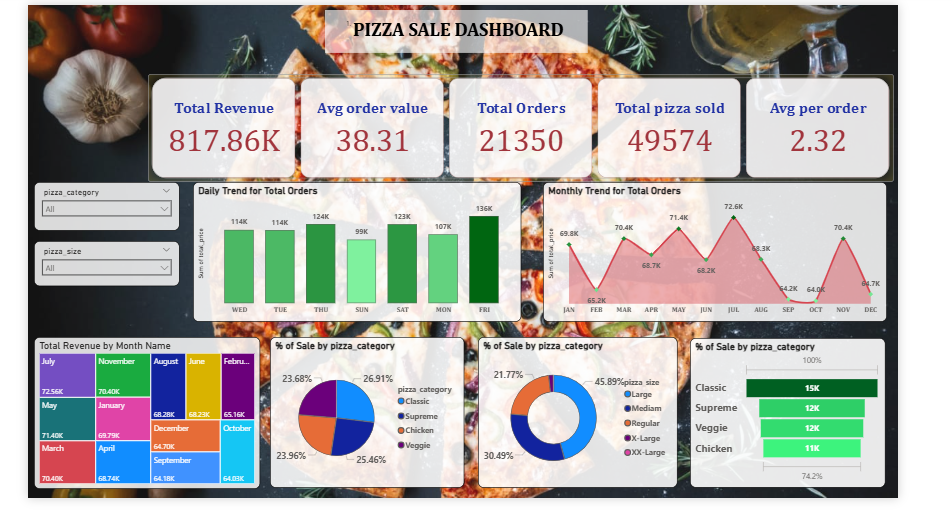

Layout of this report page (visuals, bound fields, positions):
{"tool":"powerbi","page":{"name":" Home","canvas":[1500,850],"ordinal":0},"visuals":[{"type":"cardVisual","fields":{"Data":["pizza_sales.Total Revenue","pizza_sales.Avg order value","pizza_sales.Total Orders","pizza_sales.Total pizza sold","pizza_sales.Avg per order"]},"box":[207.4,73.3,1286.3,184.4],"z":0},{"type":"textbox","box":[0,11.7,1470,85],"z":2000},{"type":"columnChart","title":"Daily Trend for Total Orders","fields":{"Category":["pizza_sales.Odr days"],"Y":["Sum(pizza_sales.total_price)"]},"box":[284.9,268.2,565.6,240.9],"z":3000},{"type":"areaChart","title":"Monthly Trend for Total Orders","fields":{"Y":["Sum(pizza_sales.total_price)"],"Category":["pizza_sales.Order month"]},"box":[886.2,268.2,592.9,240.9],"z":4000},{"type":"pieChart","title":"% of Sale by pizza_category","fields":{"Category":["pizza_sales.pizza_category"],"Y":["pizza_sales.Total Revenue"]},"box":[414.8,523.7,335.2,289.1],"z":5000},{"type":"donutChart","title":"% of Sale by pizza_category","fields":{"Y":["pizza_sales.Total Revenue"],"Category":["pizza_sales.pizza_size"]},"box":[764.7,523.7,343.6,289.1],"z":6000},{"type":"funnel","title":"% of Sale by pizza_category","fields":{"Category":["pizza_sales.pizza_category"],"Y":["pizza_sales.Total pizza sold"]},"box":[1125,523.7,354.1,289.1],"z":7000},{"type":"slicer","fields":{"Values":["pizza_sales.pizza_category"]},"box":[10.5,291.2,251.4,98.5],"z":8000},{"type":"slicer","fields":{"Values":["pizza_sales.pizza_size"]},"box":[10.5,406.4,251.4,102.7],"z":9000},{"type":"treemap","fields":{"Values":["pizza_sales.Total Revenue"],"Group":["pizza_sales.Month Name"]},"box":[0,523.7,389.7,289.1],"z":10000},{"type":"pageNavigator","box":[0,73.3,196.9,67],"z":10001},{"type":"pageNavigator","box":[0,165.5,196.9,67],"z":10002},{"type":"image","box":[10,75,56.7,65],"z":10003}]}

Visuals, with their boxes in screenshot pixels (x1, y1, x2, y2):
cardVisual - pizza_sales.Total Revenue x pizza_sales.Avg order value: <box>146,65,895,172</box>
textbox: <box>25,29,881,79</box>
"Daily Trend for Total Orders" columnChart: <box>191,179,520,319</box>
"Monthly Trend for Total Orders" areaChart: <box>541,179,887,319</box>
"% of Sale by pizza_category" pieChart: <box>266,327,462,496</box>
"% of Sale by pizza_category" donutChart: <box>470,327,671,496</box>
"% of Sale by pizza_category" funnel: <box>680,327,887,496</box>
slicer - pizza_sales.pizza_category: <box>31,192,177,249</box>
slicer - pizza_sales.pizza_size: <box>31,259,177,319</box>
treemap - pizza_sales.Total Revenue x pizza_sales.Month Name: <box>25,327,252,496</box>
pageNavigator: <box>25,65,140,104</box>
pageNavigator: <box>25,119,140,158</box>
image: <box>31,66,64,104</box>
